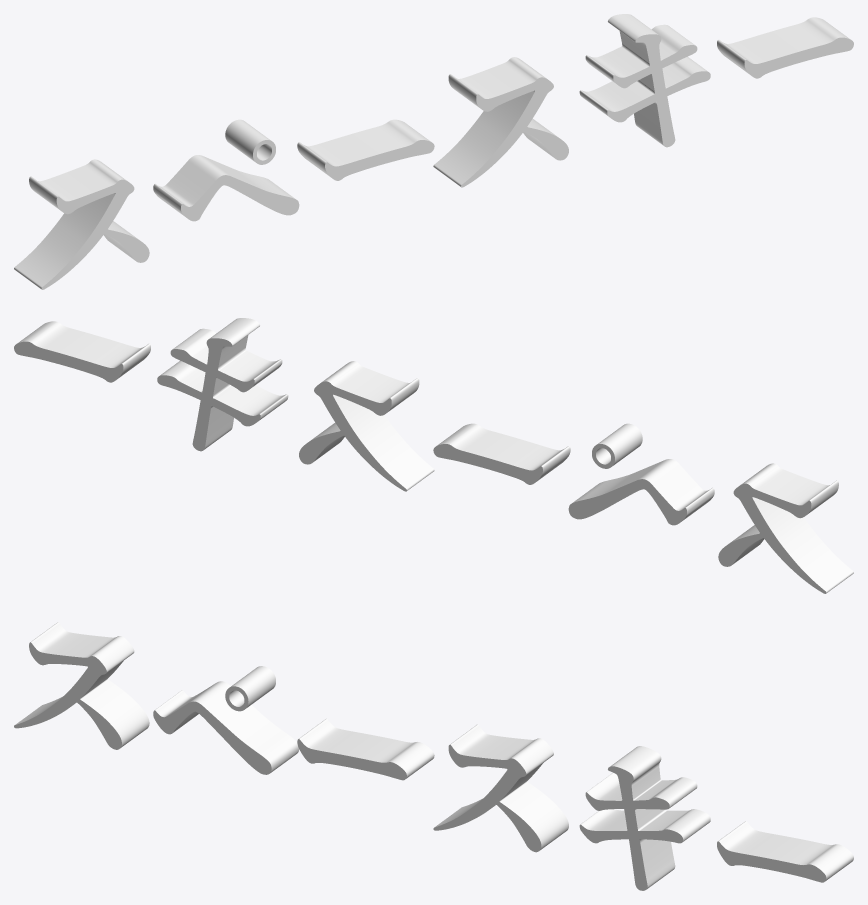
File: KeyTutorial.obj
3 views of the same model, one above another, from view 1: azimuth 30°, elevation 25°; view 2: azimuth 150°, elevation 25°; view 3: azimuth 330°, elevation 25° (orthographic).
Visible parts, largest first — view 1: テキスト; view 2: テキスト; view 3: テキスト.
Boxes of the visible parts, bbox=[...] form: テキスト: bbox=[14, 14, 853, 289]; テキスト: bbox=[14, 318, 853, 593]; テキスト: bbox=[14, 622, 853, 890].
Size of the model in its own units: 3.39 by 0.4703 by 0.2.
1 material, 1 textured.
